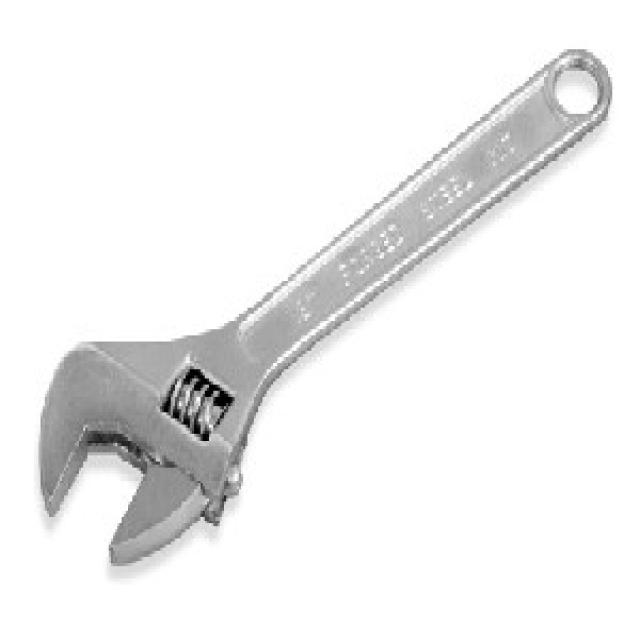wrench: (2, 10, 604, 640)
